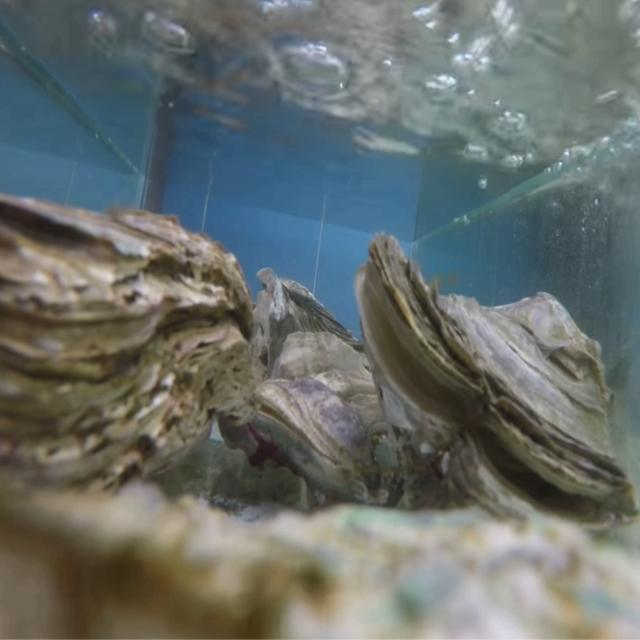Oyster-Closed: (0, 192, 255, 513), (252, 331, 408, 508)
Oyster-Indeterminate: (0, 479, 640, 640), (254, 266, 370, 383)
Oyster-Open: (356, 233, 640, 544)
